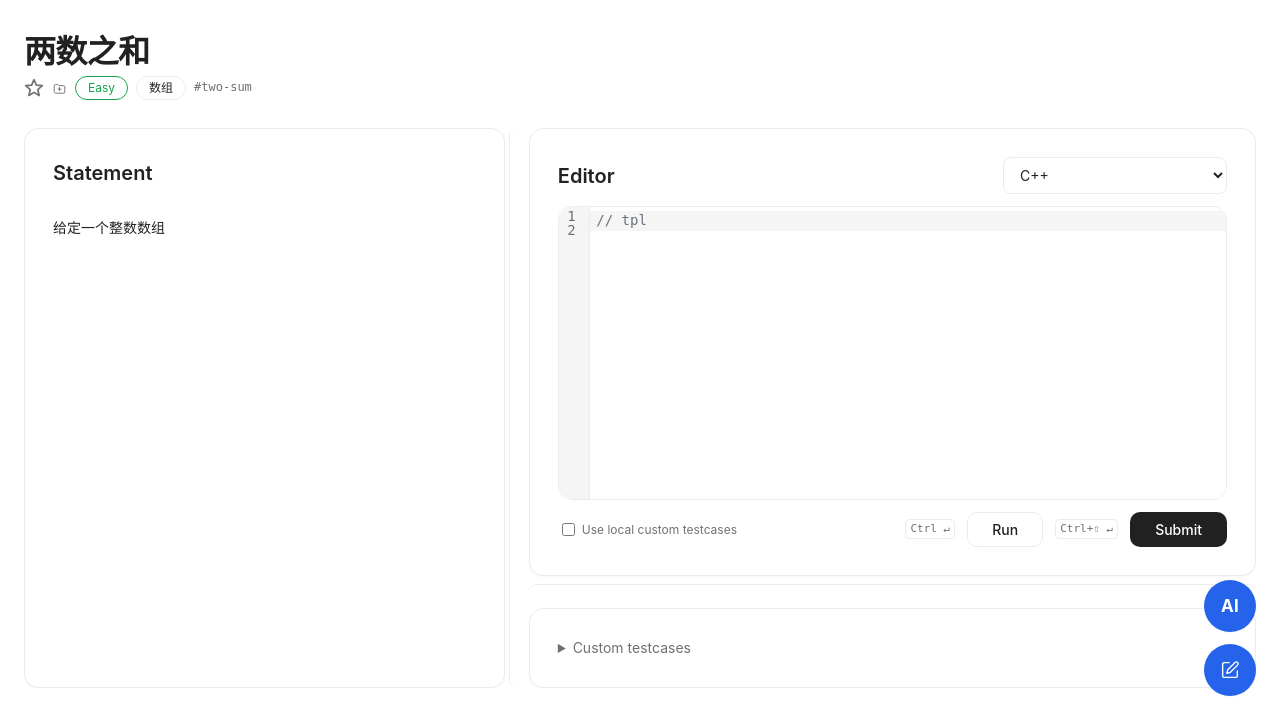
Test: workbench layout › dragging the horizontal divider sizes and opens the cases zone
Press the mouse on the element with test id "divider-editor" at point(892, 592), box [529, 584, 1256, 600]
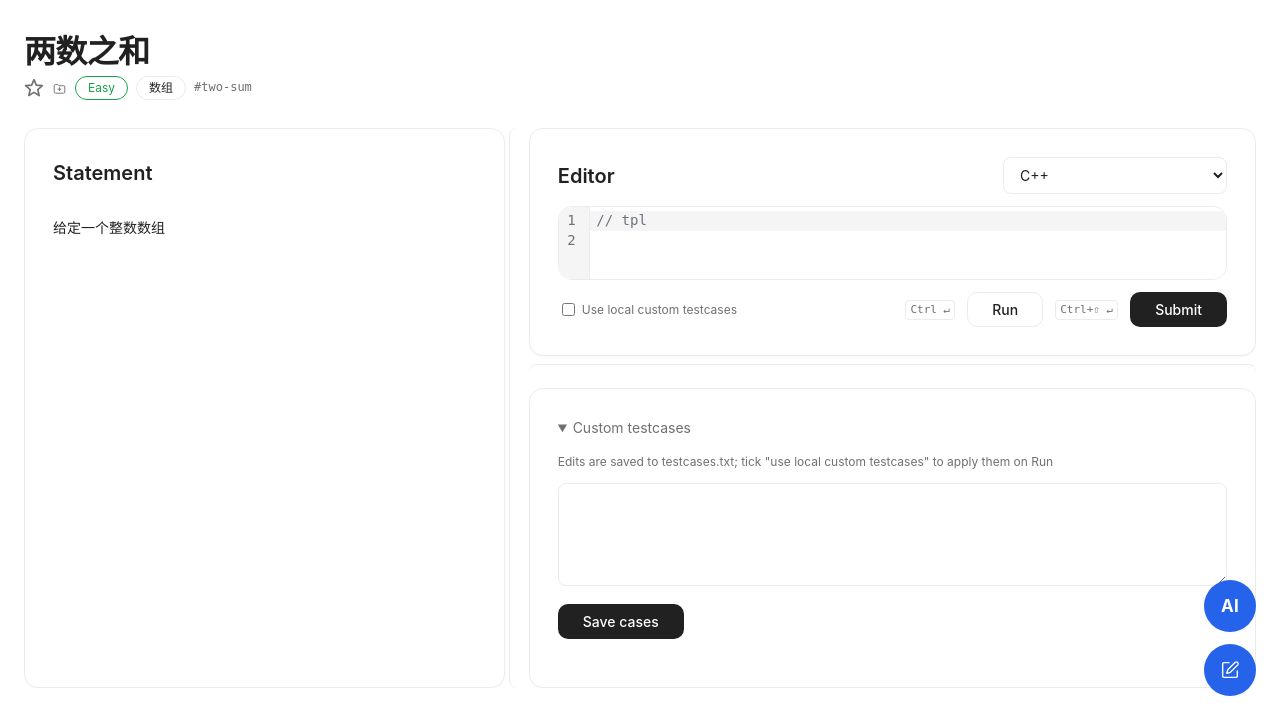
Now the text box with test id "cases-input" is shown, box [558, 483, 1227, 586]
